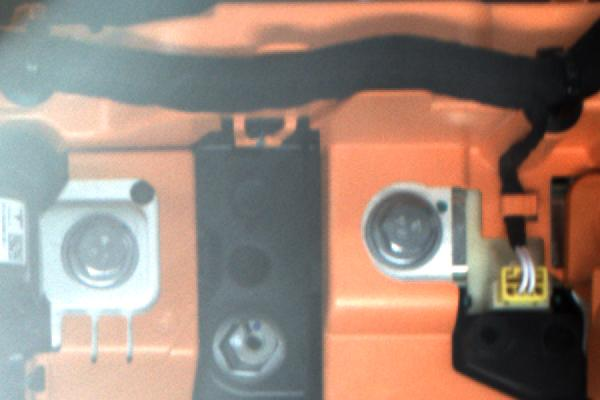nut_b: (360, 185, 449, 273), (59, 214, 154, 295)
